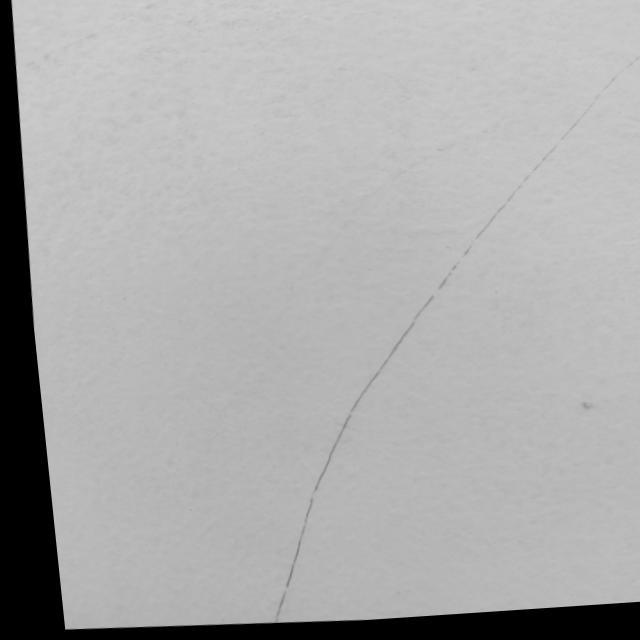Crack: (277, 69, 618, 598)
